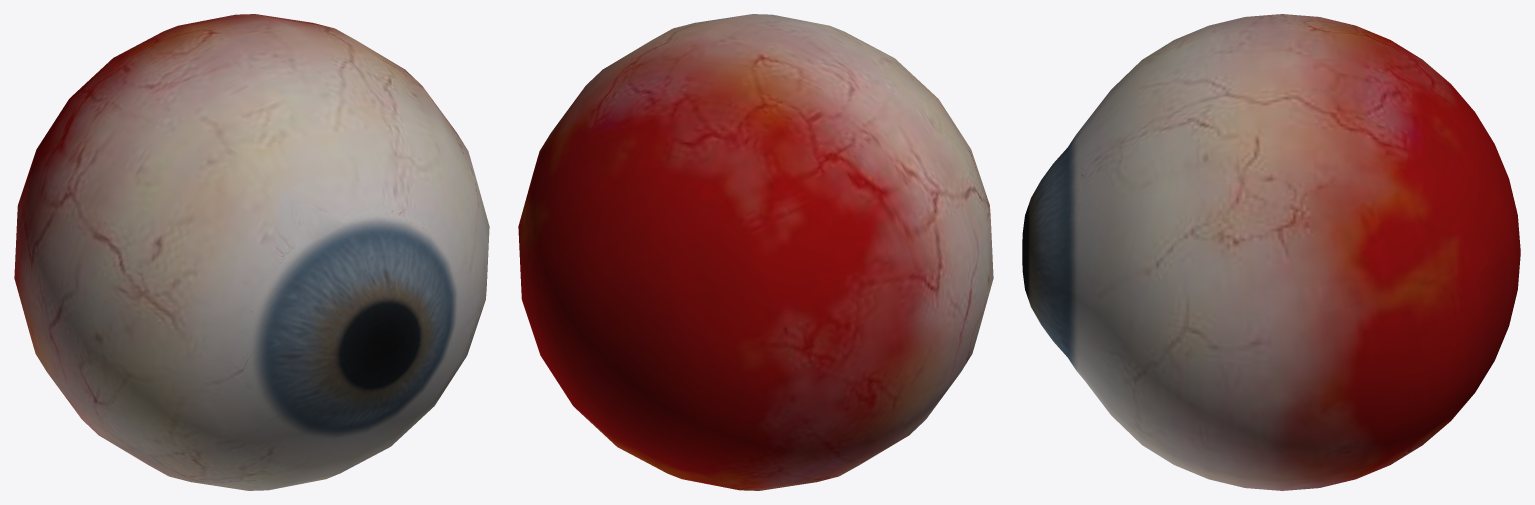
File: irritated-eye.glb
3 views of the same model, side by side, from view 1: azimuth 30°, elevation 25°; view 2: azimuth 150°, elevation 25°; view 3: azimuth 270°, elevation 25° (orthographic).
Visible parts, largest first — view 1: IrritatedEye; view 2: IrritatedEye; view 3: IrritatedEye.
Part boxes in pixels (<box>): IrritatedEye: <box>14,14,489,490</box>; IrritatedEye: <box>518,14,993,490</box>; IrritatedEye: <box>1022,14,1520,490</box>.
Bounding box in the file's own units: 0.0225 × 0.0225 × 0.0237.
1 material, 1 textured.
